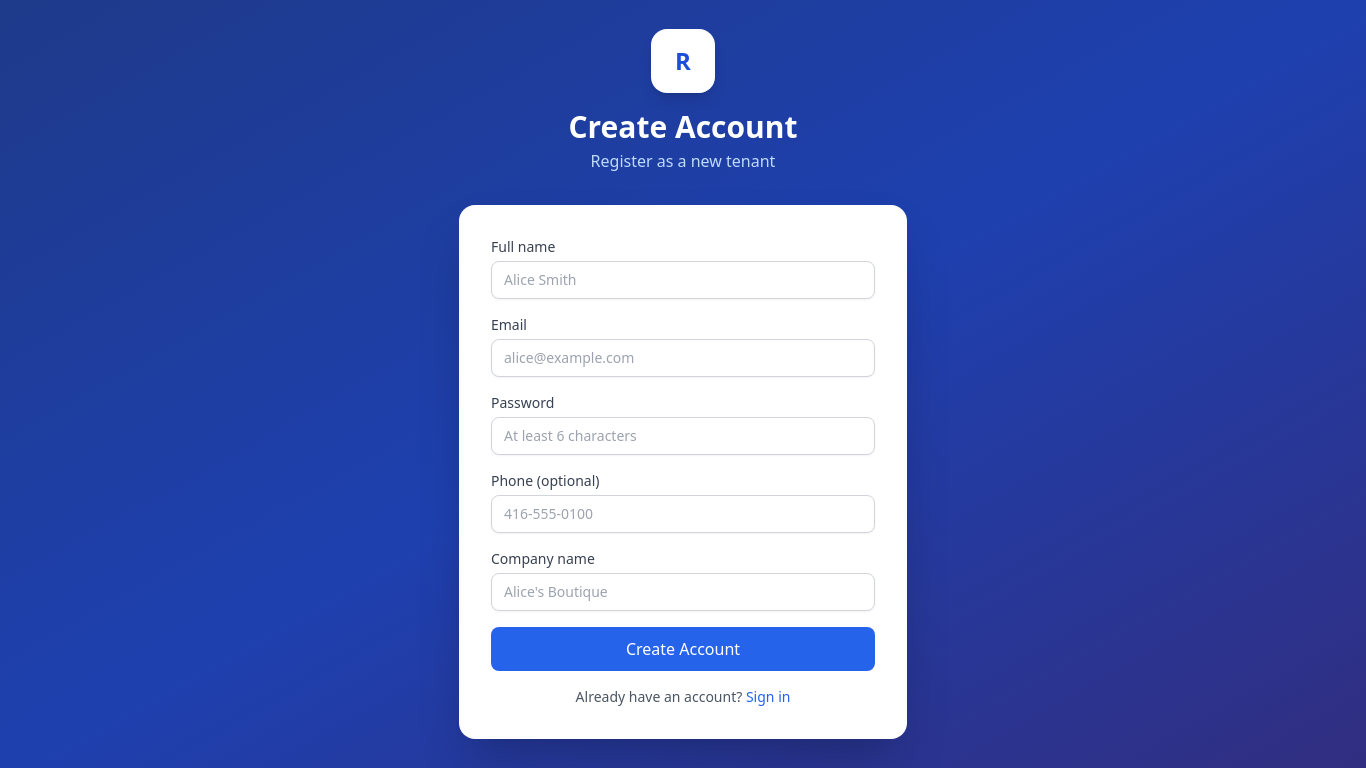
it: TC-02: Register page › shows toast listing missing required fields when submit is incomplete
Step 1. Click the button "Create Account" → (683, 649), box [491,627,875,671]
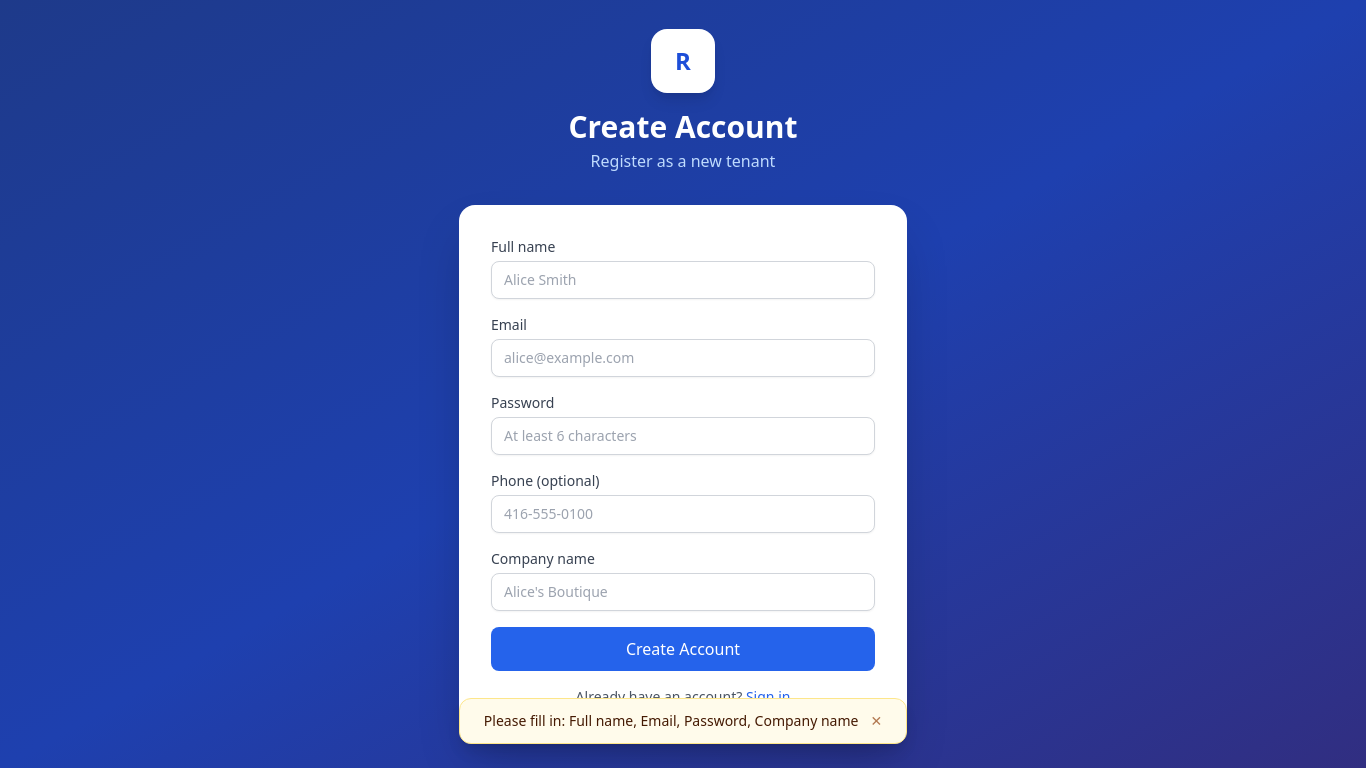
Result: the message shows "Please fill in:" at [484,711,858,730]
Result: the message shows "Full name" at [484,711,858,730]
Result: the message shows "Email" at [484,711,858,730]
